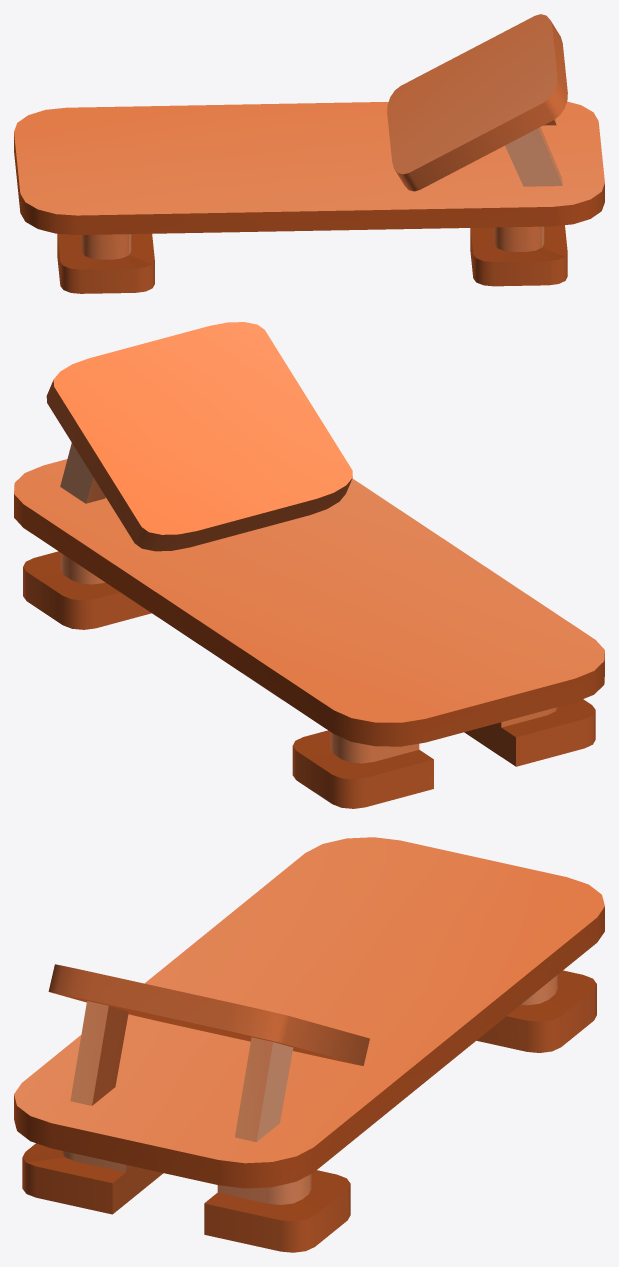
File: Lounge.fbx
3 views of the same model, one above another, from view 1: azimuth 30°, elevation 25°; view 2: azimuth 150°, elevation 25°; view 3: azimuth 270°, elevation 25° (orthographic). The views are drawn at different scales.
Visible parts, largest first — view 1: Cube.004; view 2: Cube.004; view 3: Cube.004.
Part boxes in pixels (x1,y1,x2,y2): Cube.004: (14,14,604,293); Cube.004: (14,322,604,808); Cube.004: (14,837,604,1252).
Size of the model in its own units: 695 by 232 by 533.
